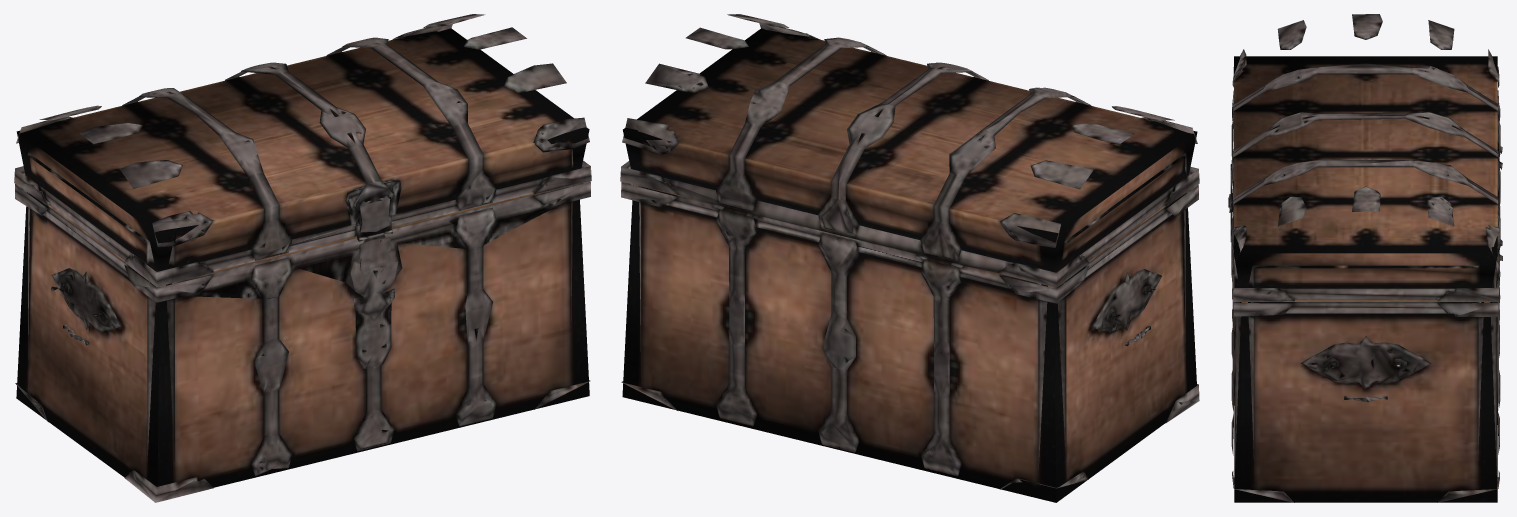
Rendered from treasure_chest.glb.
3 views of the same model, side by side, from view 1: azimuth 30°, elevation 25°; view 2: azimuth 150°, elevation 25°; view 3: azimuth 270°, elevation 25° (orthographic). The views are drawn at different scales.
Parts seen in each view (by area): view 1: treasure_chest_bottom, treasure_chest_lid, treasure_chest_lock; view 2: treasure_chest_bottom, treasure_chest_lid; view 3: treasure_chest_lid, treasure_chest_bottom.
Part boxes in pixels (x1,y1,x2,y2): treasure_chest_bottom: (15,181,590,502); treasure_chest_lid: (14,14,591,287); treasure_chest_lock: (350,232,398,321); treasure_chest_bottom: (621,182,1199,502); treasure_chest_lid: (620,14,1199,287); treasure_chest_lid: (1228,14,1502,302); treasure_chest_bottom: (1231,160,1500,502).
Size of the model in its own units: 0.9471 by 0.6151 by 0.5222.
1 material, 1 textured.
